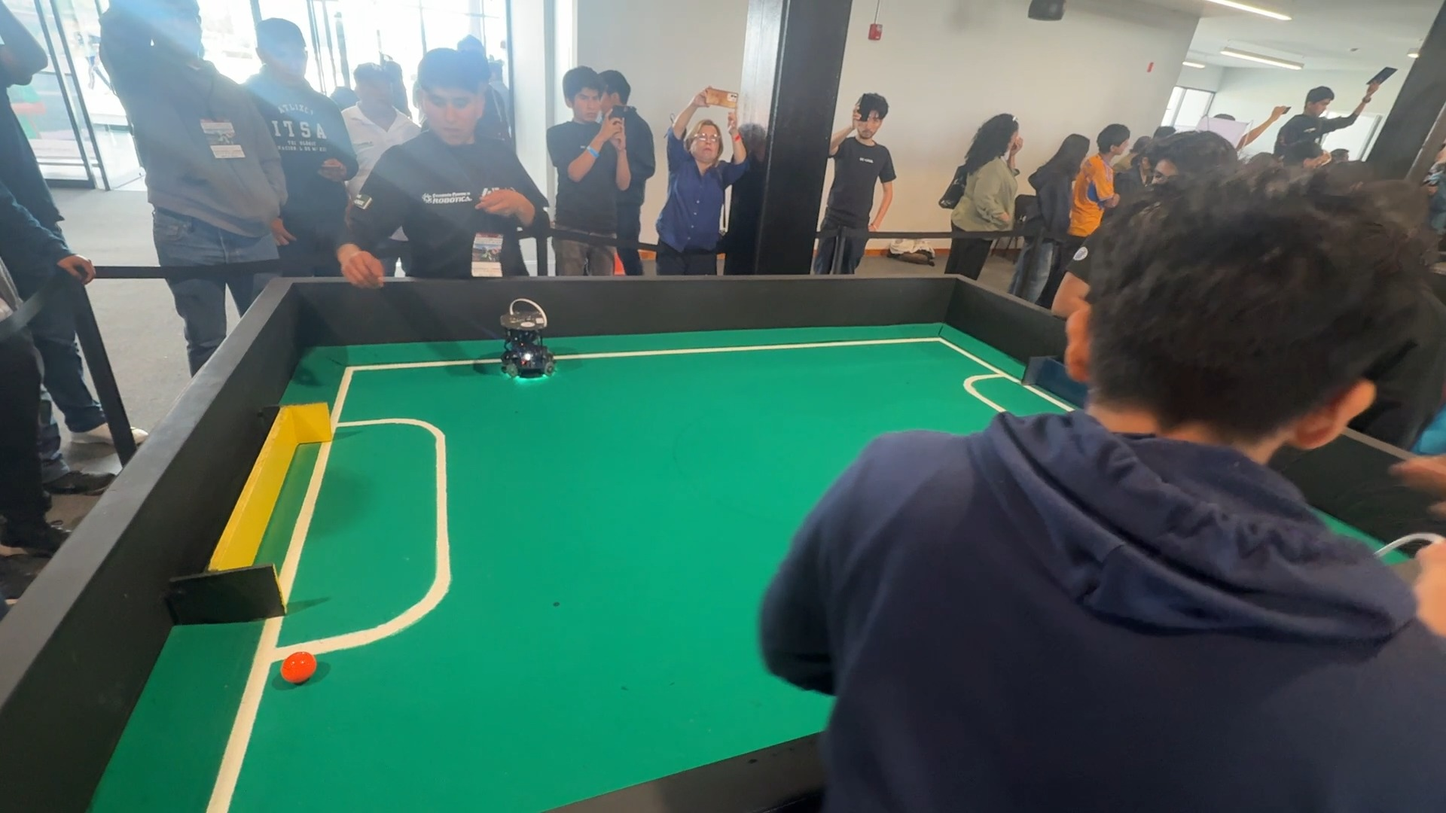Robot: (478, 298, 566, 394)
pelota: (277, 646, 329, 693)
